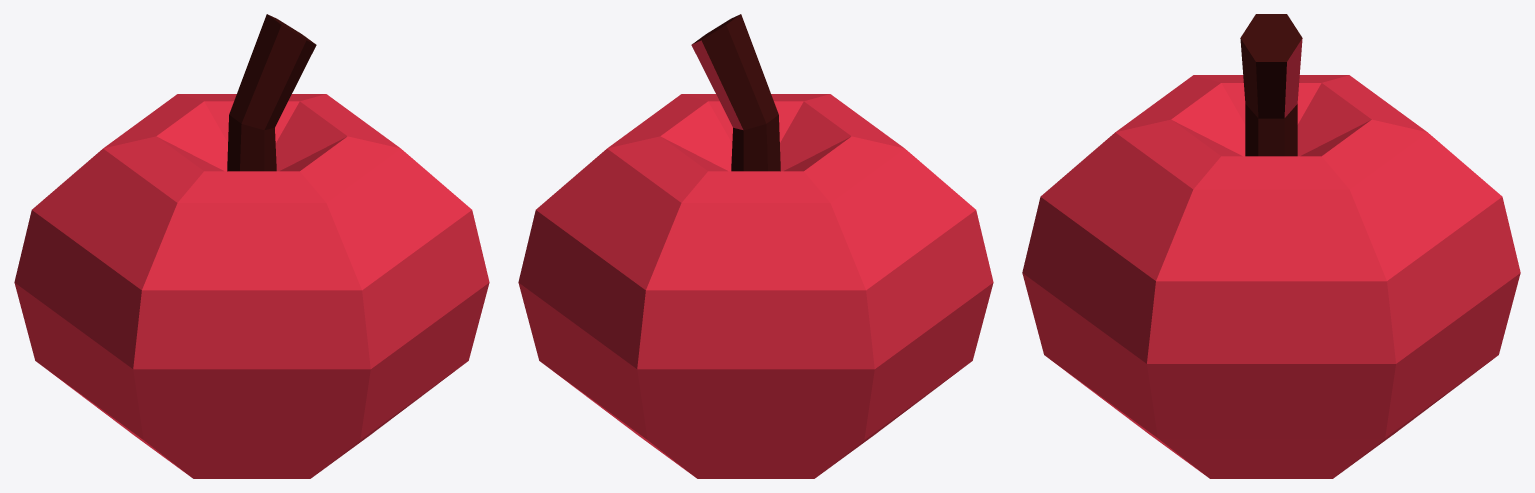
Rendered from Apple.fbx.
3 views of the same model, side by side, from view 1: azimuth 30°, elevation 25°; view 2: azimuth 150°, elevation 25°; view 3: azimuth 270°, elevation 25° (orthographic). The views are drawn at different scales.
Parts seen in each view (by area): view 1: Apple; view 2: Apple; view 3: Apple.
Boxes of the visible parts, <box> form: Apple: <box>14,14,489,478</box>; Apple: <box>518,14,993,478</box>; Apple: <box>1022,14,1520,478</box>.
Bounding box in the file's own units: 48.91 × 53.94 × 56.48.
